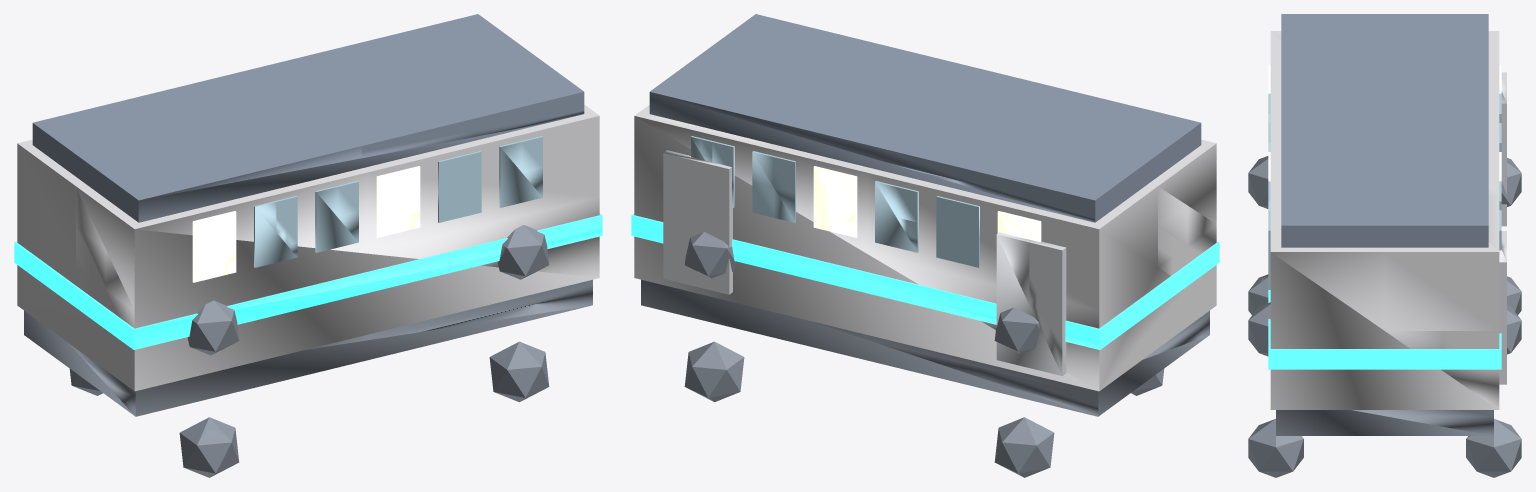
The model's file is car.glb.
3 renders of one model, left to right at view 1: azimuth 30°, elevation 25°; view 2: azimuth 150°, elevation 25°; view 3: azimuth 270°, elevation 25°, orthographic. The views are drawn at different scales.
Parts seen in each view (by area): view 1: MetroCar; view 2: MetroCar; view 3: MetroCar.
Part boxes in pixels (x1,y1,x2,y2): MetroCar: [14, 14, 602, 477]; MetroCar: [631, 14, 1219, 477]; MetroCar: [1248, 14, 1521, 477].
Size of the model in its own units: 2.42 by 1.44 by 1.26.
